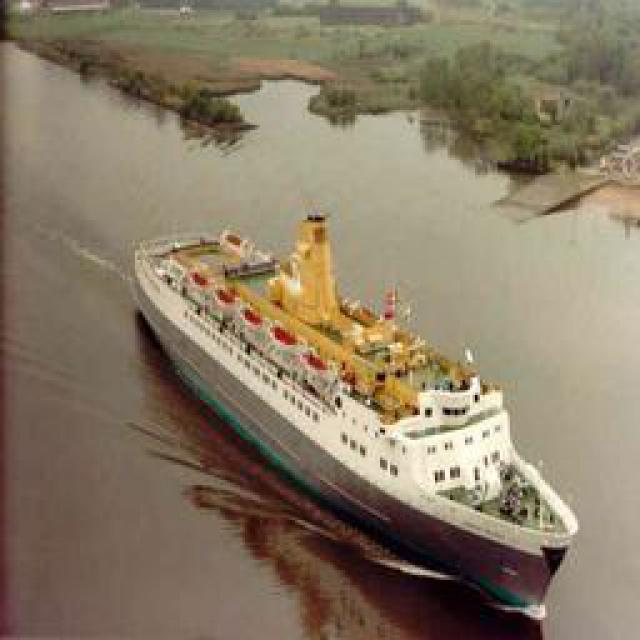Ship: (133, 210, 578, 615)
